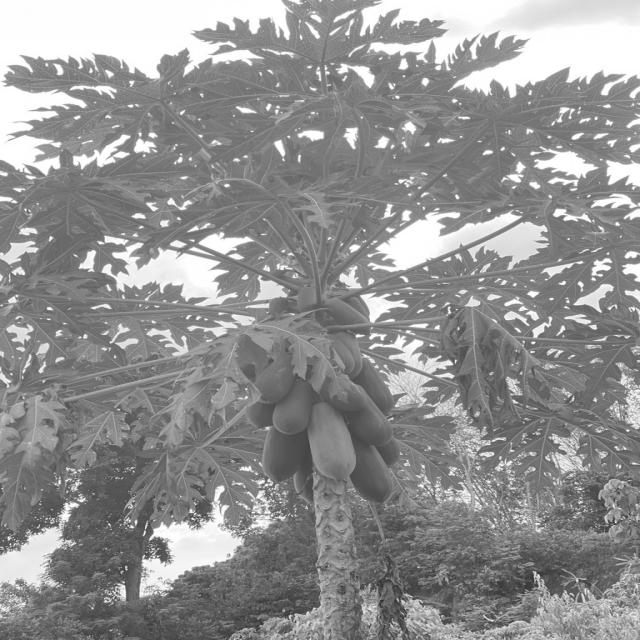Papaya-Tree: (18, 3, 639, 640)
